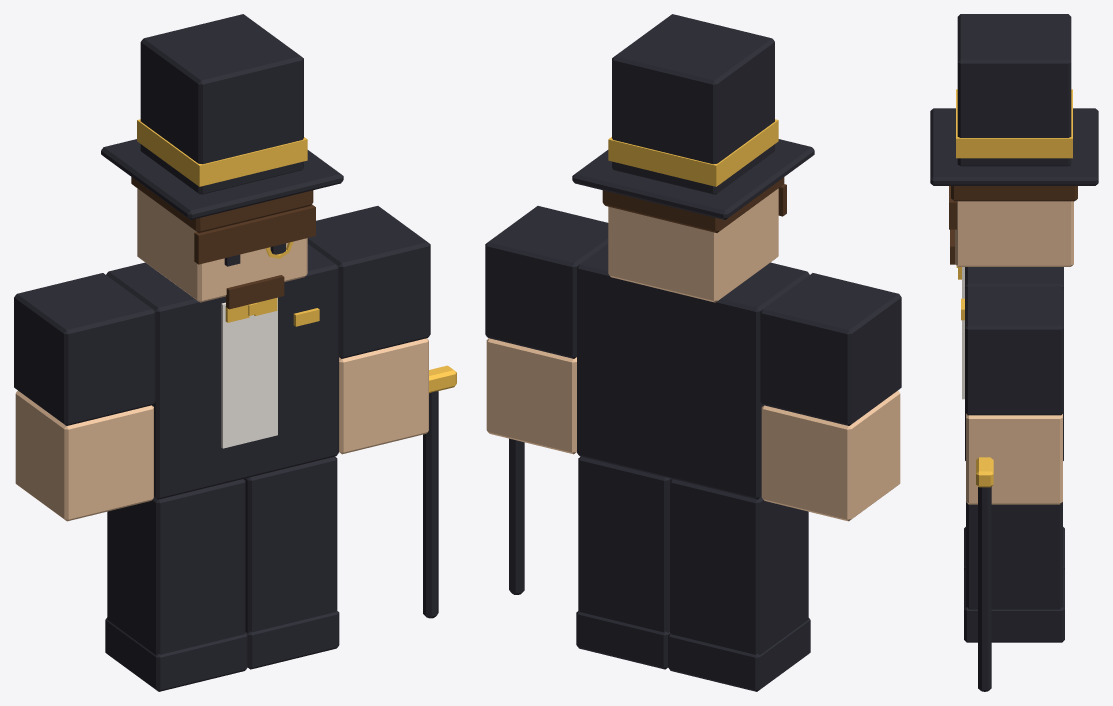
Rendered from CatCafe_NPC_Customer_Rich.fbx.
The picture shows the model from 3 angles, left to right: view 1: azimuth 30°, elevation 25°; view 2: azimuth 150°, elevation 25°; view 3: azimuth 270°, elevation 25°; orthographic projection. The views are drawn at different scales.
Parts seen in each view (by area): view 1: CatCafe_NPC_Customer_Rich; view 2: CatCafe_NPC_Customer_Rich; view 3: CatCafe_NPC_Customer_Rich.
Boxes of the visible parts, left/top/right/bottom form: CatCafe_NPC_Customer_Rich: left=14, top=14, right=456, bottom=691; CatCafe_NPC_Customer_Rich: left=485, top=14, right=901, bottom=691; CatCafe_NPC_Customer_Rich: left=930, top=14, right=1098, bottom=691.
Bounding box in the file's own units: 4.35 × 6.3 × 1.7.
Materials: 1 (1 with a texture image).
